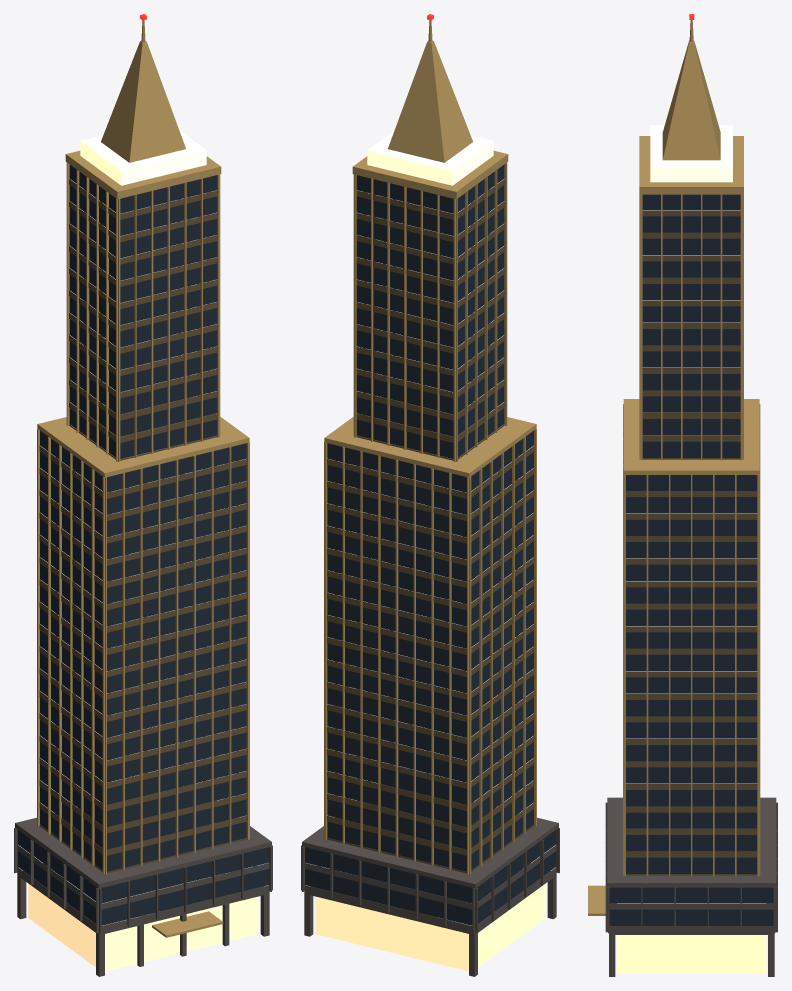
File: bld_dt_tower_b.glb
The picture shows the model from 3 angles, left to right: view 1: azimuth 30°, elevation 25°; view 2: azimuth 150°, elevation 25°; view 3: azimuth 270°, elevation 25°; orthographic projection.
Parts seen in each view (by area): view 1: bld_dt_tower_b; view 2: bld_dt_tower_b; view 3: bld_dt_tower_b.
Part boxes in pixels (<box>): bld_dt_tower_b: <box>14,14,272,976</box>; bld_dt_tower_b: <box>301,14,559,976</box>; bld_dt_tower_b: <box>588,14,777,976</box>.
Size of what is drawn, in the model's own units: 24.8 by 122 by 22.9.
